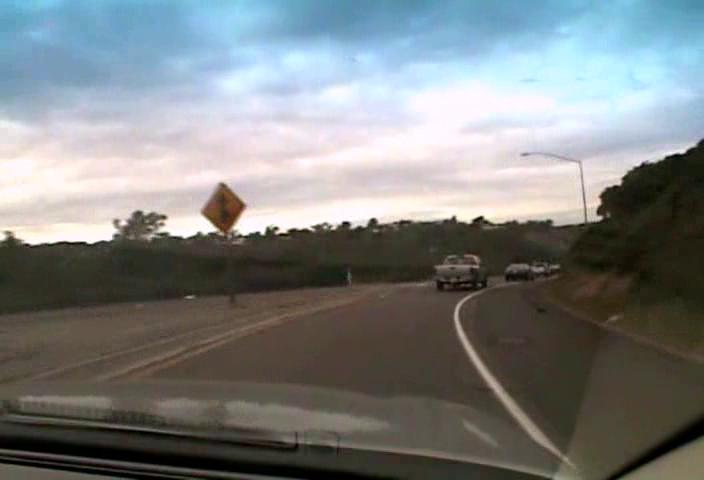merge: (199, 180, 246, 233)
